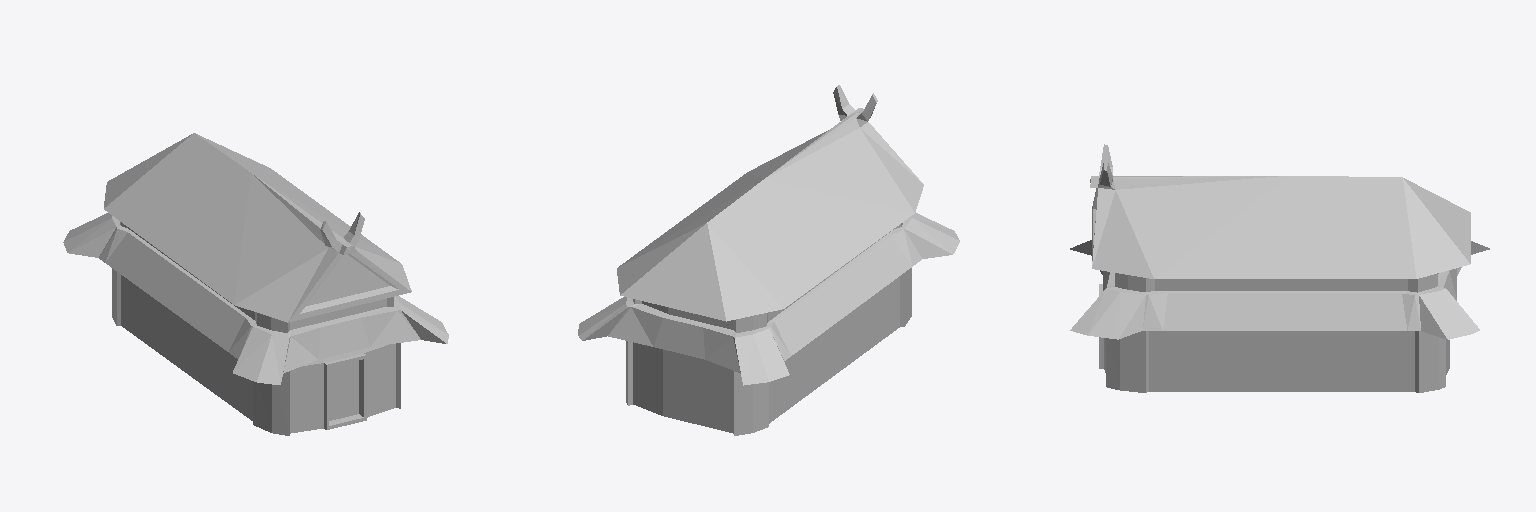
The model's file is Big_housee.obj.
3 renders of one model, left to right at view 1: azimuth 30°, elevation 25°; view 2: azimuth 150°, elevation 25°; view 3: azimuth 270°, elevation 25°, orthographic.
Visible parts, largest first — view 1: Big_housee pasted__pasted__group12 pasted__group20 group15; view 2: Big_housee pasted__pasted__group12 pasted__group20 group15; view 3: Big_housee pasted__pasted__group12 pasted__group20 group15.
Boxes of the visible parts, x1=… form: Big_housee pasted__pasted__group12 pasted__group20 group15: x1=63, y1=133, x2=448, y2=435; Big_housee pasted__pasted__group12 pasted__group20 group15: x1=578, y1=85, x2=959, y2=435; Big_housee pasted__pasted__group12 pasted__group20 group15: x1=1070, y1=144, x2=1489, y2=392.
Bounding box in the file's own units: 15.99 × 14.94 × 27.75.